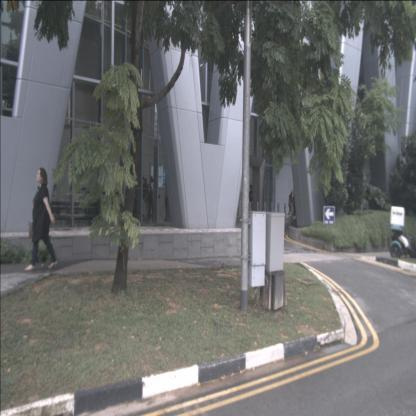human-pedestrian-adult: (24, 166, 58, 274), (162, 178, 170, 222), (147, 174, 154, 223), (140, 176, 146, 222), (143, 176, 149, 220), (247, 182, 253, 214), (288, 189, 293, 216)
vehicle-motorcycle: (389, 206, 416, 260)
